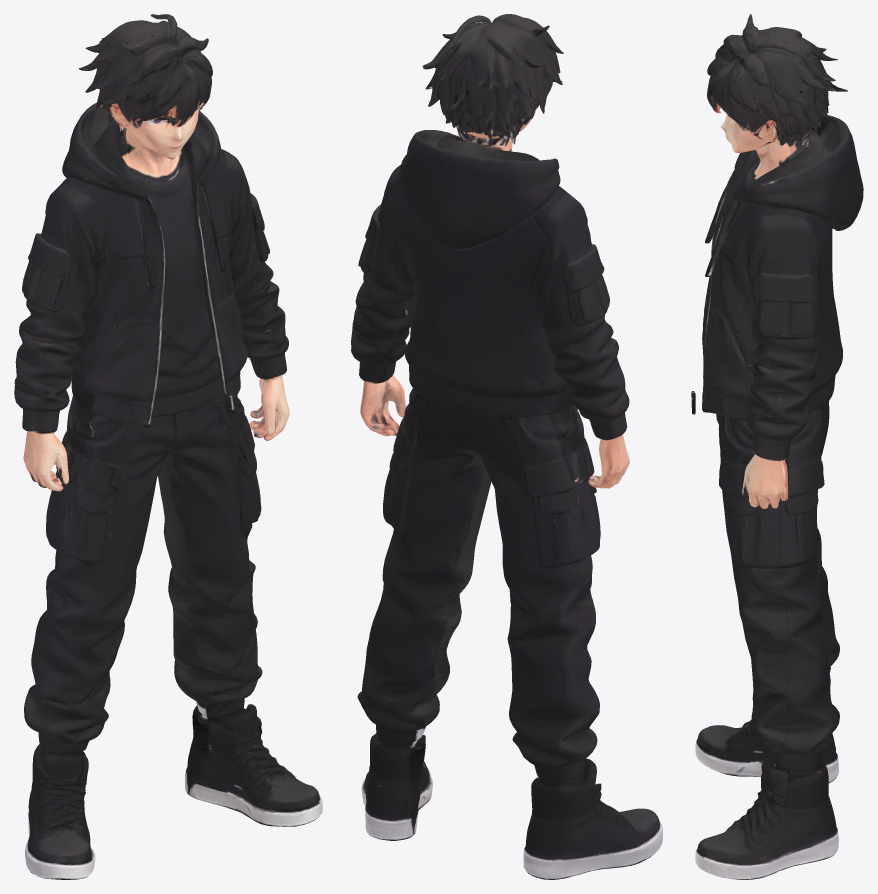
File: personagem masculino.glb
3 renders of one model, left to right at view 1: azimuth 30°, elevation 25°; view 2: azimuth 150°, elevation 25°; view 3: azimuth 270°, elevation 25°, orthographic. The views are drawn at different scales.
Visible parts, largest first — view 1: world; view 2: world; view 3: world.
Boxes of the visible parts, left/top/right/bottom form: world: left=14, top=14, right=322, bottom=879; world: left=351, top=14, right=662, bottom=879; world: left=691, top=14, right=863, bottom=879.
Bounding box in the file's own units: 0.7271 × 1.99 × 0.3963.
1 material, 1 textured.
